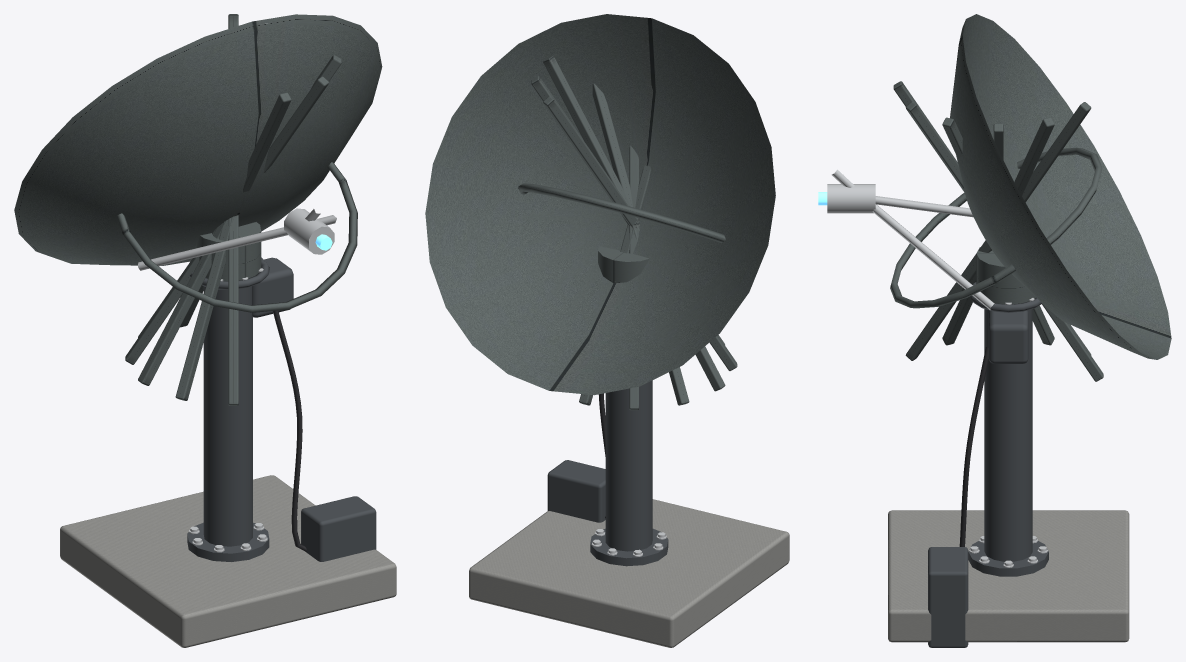
Rendered from fps-survival-forest-outpost-antenna-dish-8592b464__32631.glb.
The picture shows the model from 3 angles, left to right: view 1: azimuth 30°, elevation 25°; view 2: azimuth 150°, elevation 25°; view 3: azimuth 270°, elevation 25°; orthographic projection. The views are drawn at different scales.
Parts seen in each view (by area): view 1: dish/panel, antenna-dish, dish/steel; view 2: dish/panel, antenna-dish; view 3: dish/panel, antenna-dish, dish/steel.
Part boxes in pixels (left/top/right/bottom): dish/panel: left=14, top=14, right=382, bottom=405; antenna-dish: left=60, top=234, right=396, bottom=647; dish/steel: left=138, top=208, right=336, bottom=270; dish/panel: left=425, top=14, right=775, bottom=410; antenna-dish: left=469, top=380, right=789, bottom=647; dish/panel: left=890, top=14, right=1171, bottom=381; antenna-dish: left=818, top=192, right=1129, bottom=647; dish/steel: left=827, top=169, right=995, bottom=309.
Size of the model in its own units: 1.96 by 3.08 by 1.75.
6 materials, 2 textured.
